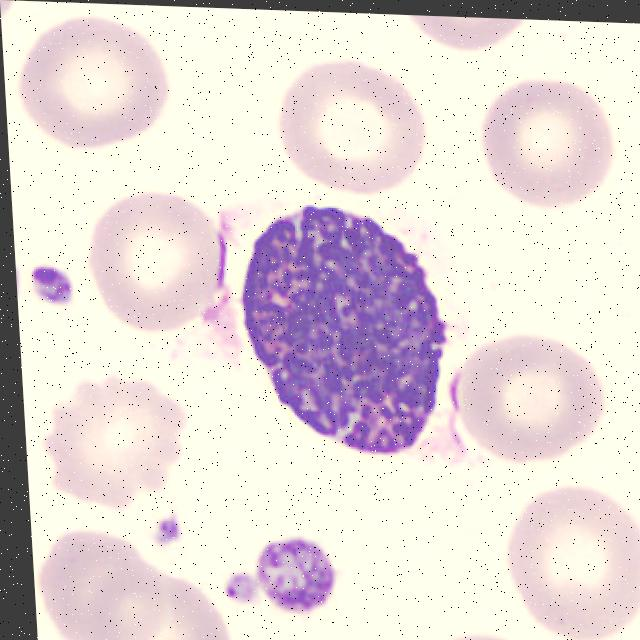basophil: (229, 200, 474, 472)
platelets: (256, 525, 338, 619), (23, 247, 82, 320), (222, 568, 260, 612), (153, 513, 191, 546)
rbc: (28, 359, 230, 523), (444, 318, 622, 495), (12, 6, 194, 163), (483, 467, 640, 640), (268, 56, 440, 207), (465, 64, 628, 223), (36, 529, 180, 640), (100, 574, 240, 640), (410, 15, 551, 67), (421, 625, 541, 640)
